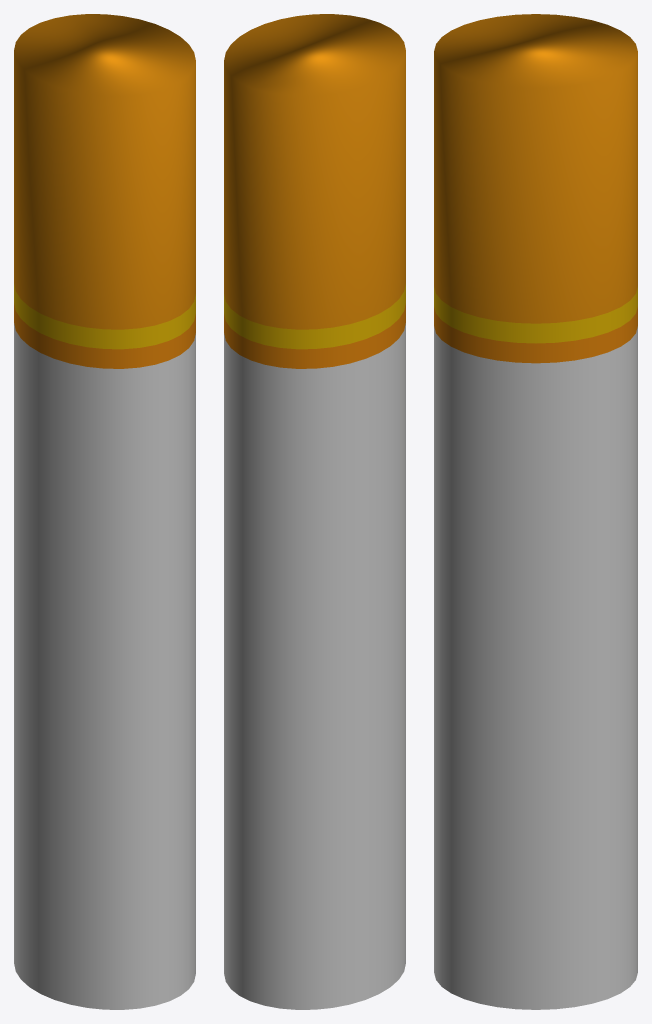
File: Cigarette.fbx
3 views of the same model, side by side, from view 1: azimuth 30°, elevation 25°; view 2: azimuth 150°, elevation 25°; view 3: azimuth 270°, elevation 25° (orthographic).
Visible parts, largest first — view 1: Cylinder; view 2: Cylinder; view 3: Cylinder.
Boxes of the visible parts, bbox=[...] form: Cylinder: bbox=[14, 14, 195, 1009]; Cylinder: bbox=[224, 14, 405, 1009]; Cylinder: bbox=[434, 14, 637, 1009].
Size of the model in its own units: 173 by 1000 by 200.
